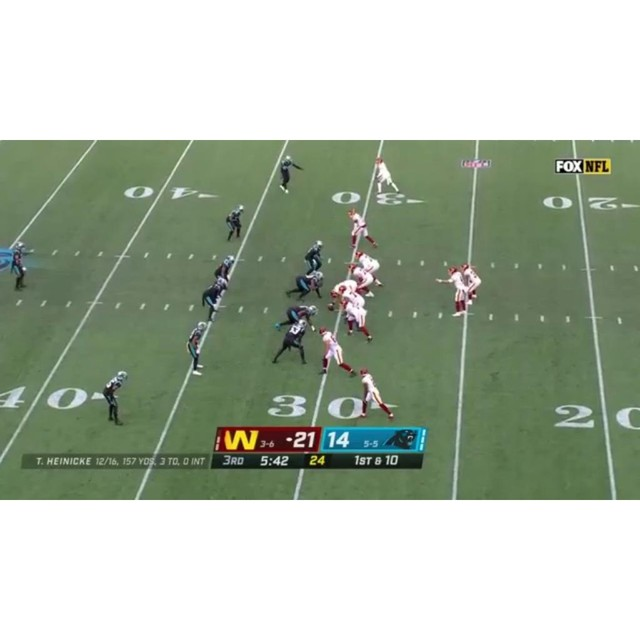american-football-player: (359, 367, 394, 421), (271, 318, 311, 365), (319, 325, 355, 377), (435, 265, 470, 317), (341, 300, 373, 344), (103, 371, 128, 425), (348, 207, 378, 251), (201, 277, 228, 322), (275, 304, 318, 332), (186, 322, 207, 376), (355, 249, 384, 286), (288, 272, 325, 301), (374, 155, 400, 195), (348, 263, 376, 299), (460, 262, 482, 306), (279, 156, 303, 194), (10, 241, 28, 291), (225, 204, 244, 242), (304, 240, 324, 274)
